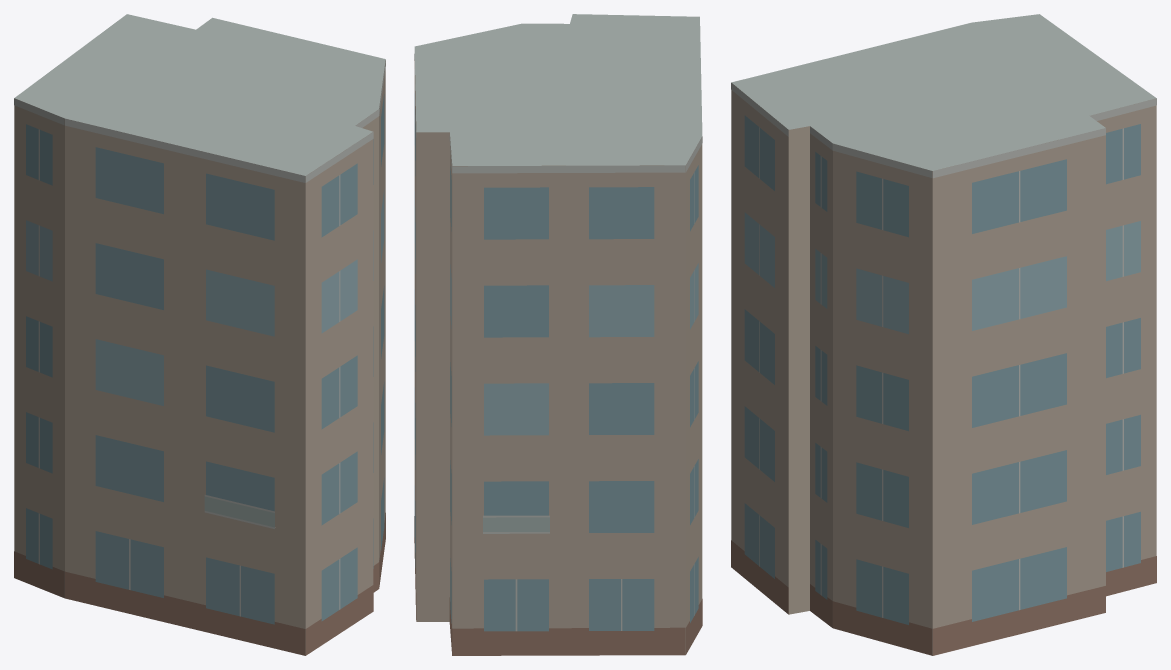
The model's file is survey-upis-33025217.glb.
The picture shows the model from 3 angles, left to right: view 1: azimuth 30°, elevation 25°; view 2: azimuth 150°, elevation 25°; view 3: azimuth 270°, elevation 25°; orthographic projection. The views are drawn at different scales.
Visible parts, largest first — view 1: survey-upis-33025217.tmp; view 2: survey-upis-33025217.tmp; view 3: survey-upis-33025217.tmp.
Part boxes in pixels (left/top/right/bottom): survey-upis-33025217.tmp: left=14, top=14, right=385, bottom=655; survey-upis-33025217.tmp: left=414, top=14, right=702, bottom=655; survey-upis-33025217.tmp: left=731, top=14, right=1156, bottom=655.
Bounding box in the file's own units: 11.41 × 16.4 × 13.06.
